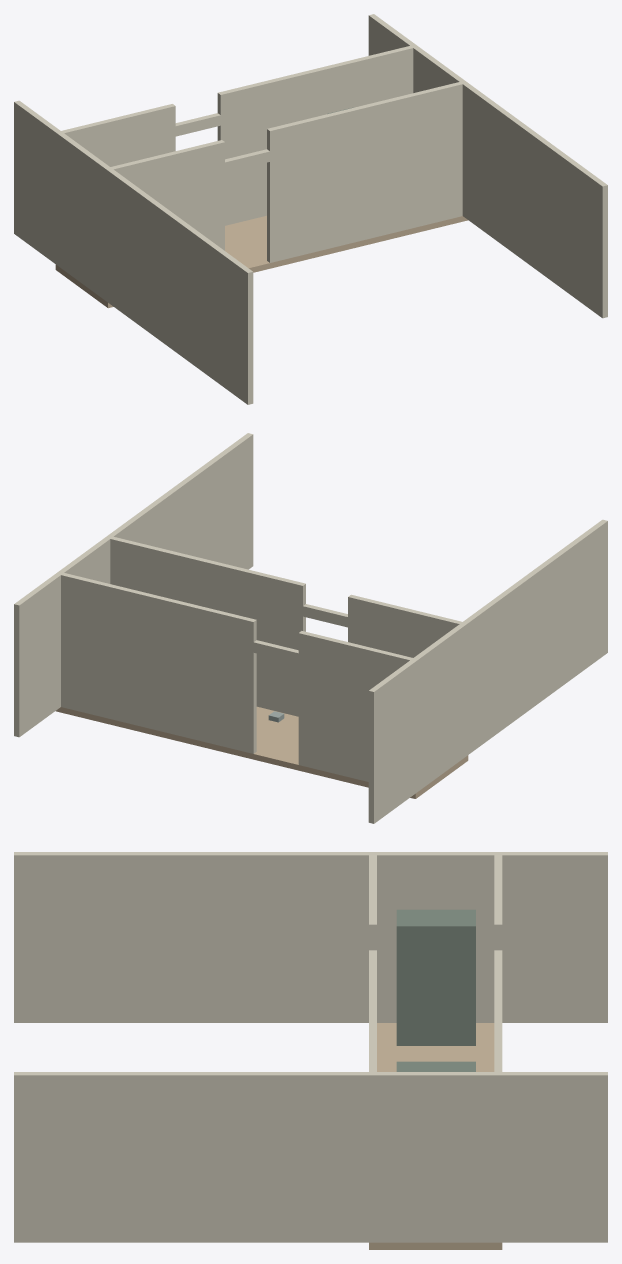
3 renders of one model, top to bottom at view 1: azimuth 30°, elevation 25°; view 2: azimuth 150°, elevation 25°; view 3: azimuth 270°, elevation 25°, orthographic. The views are drawn at different scales.
Parts seen in each view (by area): view 1: CW_1, SUPN2_4, CE_2, YARDN2_9, SUPN_3, YARDN_8, GROUND_0, YARDD-lintel_12, SUPD-j2_6, SUPD-lintel_7; view 2: CW_1, YARDN2_9, CE_2, SUPN2_4, YARDN_8, SUPN_3, GROUND_0, YARDD-lintel_12, SUPD-lintel_7; view 3: CE_2, CW_1, SHELF_13, GROUND_0, YARDN2_9, SUPN2_4, SHELF_14, YARDN_8, SUPN_3.
Part boxes in pixels (<box>): CW_1: <box>14,100,253,404</box>; SUPN2_4: <box>267,80,466,262</box>; CE_2: <box>368,14,607,318</box>; YARDN2_9: <box>217,44,417,225</box>; SUPN_3: <box>106,140,224,301</box>; YARDN_8: <box>55,104,175,264</box>; GROUND_0: <box>55,215,467,308</box>; YARDD-lintel_12: <box>175,113,220,136</box>; SUPD-j2_6: <box>267,154,273,262</box>; SUPD-lintel_7: <box>225,149,269,172</box>; CW_1: <box>368,519,607,823</box>; YARDN2_9: <box>56,571,256,753</box>; CE_2: <box>14,433,253,737</box>; SUPN2_4: <box>105,535,305,716</box>; YARDN_8: <box>298,631,418,792</box>; SUPN_3: <box>348,594,468,756</box>; GROUND_0: <box>56,706,468,798</box>; YARDD-lintel_12: <box>253,640,298,663</box>; SUPD-lintel_7: <box>303,604,347,627</box>; CE_2: <box>14,1072,607,1242</box>; CW_1: <box>14,852,607,1022</box>; SHELF_13: <box>396,909,475,1045</box>; GROUND_0: <box>369,1023,502,1249</box>; YARDN2_9: <box>494,952,502,1242</box>; SUPN2_4: <box>369,952,376,1242</box>; SHELF_14: <box>396,1061,475,1071</box>; YARDN_8: <box>494,852,502,950</box>; SUPN_3: <box>369,852,376,950</box>.
Bounding box in the file's own units: 8 × 2.92 × 9.
